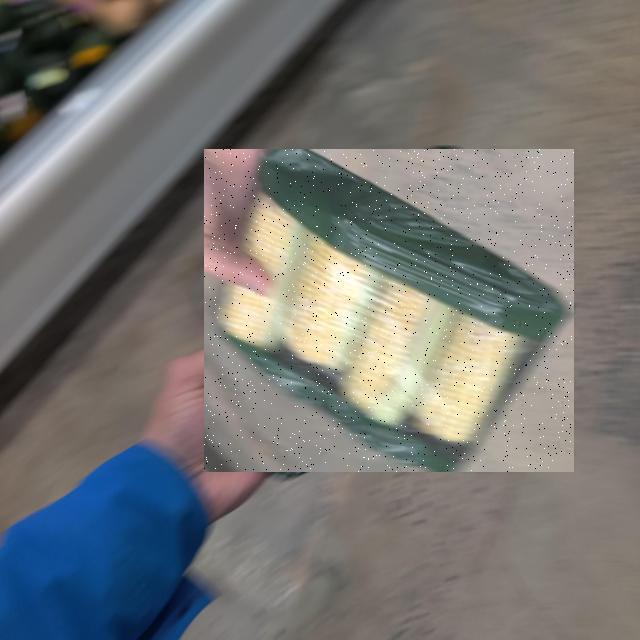Corn: (204, 149, 574, 472)
